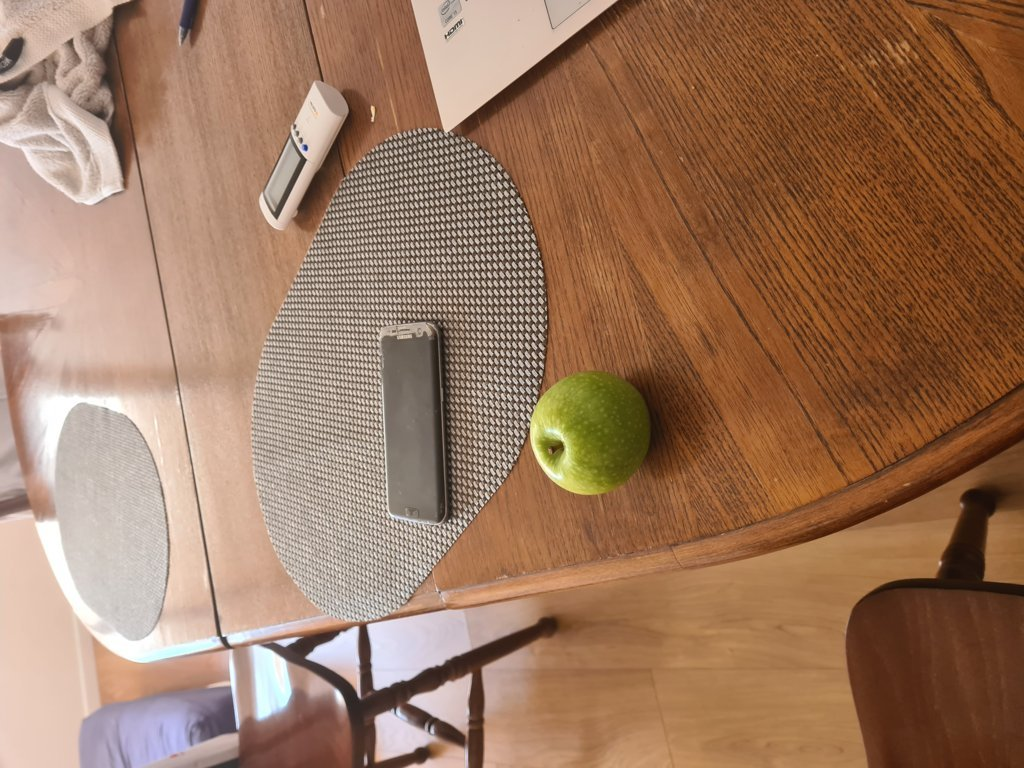apple: (531, 371, 652, 489)
